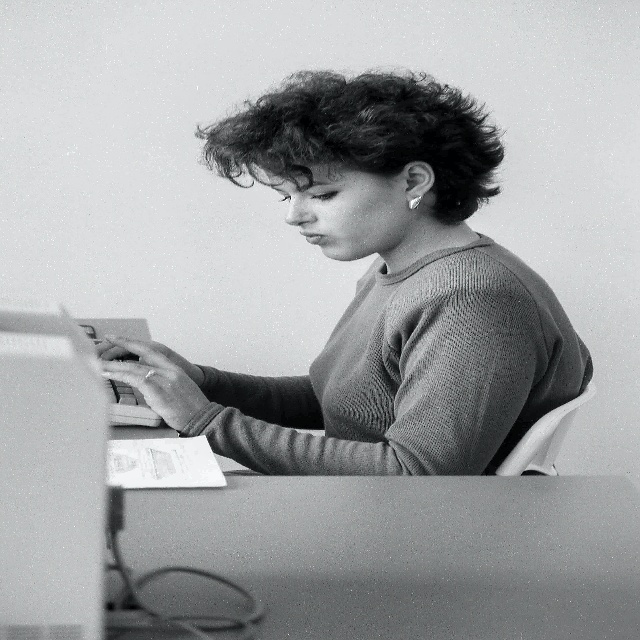Sin_guantes: (99, 334, 209, 431), (95, 340, 201, 388)
